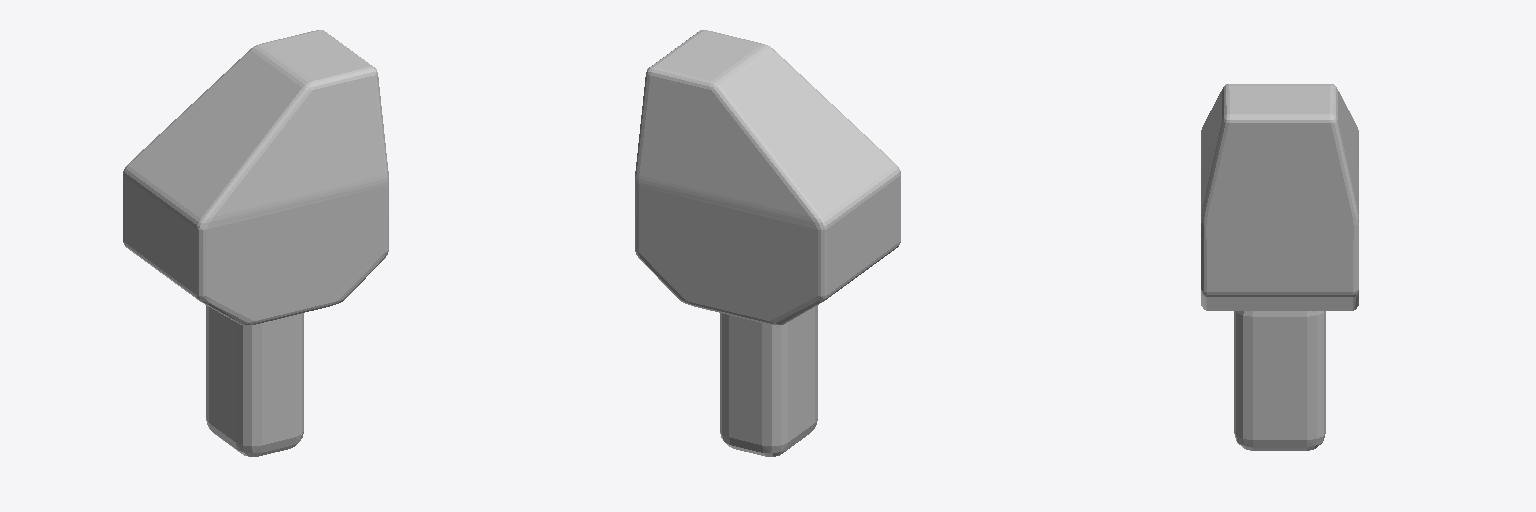
File: MeleeRobot_leftupperarm.obj
The picture shows the model from 3 angles: view 1: azimuth 30°, elevation 25°; view 2: azimuth 150°, elevation 25°; view 3: azimuth 270°, elevation 25°; orthographic projection.
Parts seen in each view (by area): view 1: Left_Arm, Left_Arm L_Upper_Arm; view 2: Left_Arm, Left_Arm L_Upper_Arm; view 3: Left_Arm, Left_Arm L_Upper_Arm.
Part boxes in pixels (bbox=[...]): Left_Arm: bbox=[123, 30, 388, 324]; Left_Arm L_Upper_Arm: bbox=[206, 305, 303, 456]; Left_Arm: bbox=[635, 30, 900, 324]; Left_Arm L_Upper_Arm: bbox=[720, 305, 817, 456]; Left_Arm: bbox=[1201, 84, 1358, 310]; Left_Arm L_Upper_Arm: bbox=[1234, 311, 1325, 450].
Size of the model in its own units: 1.27 by 2.35 by 0.91.